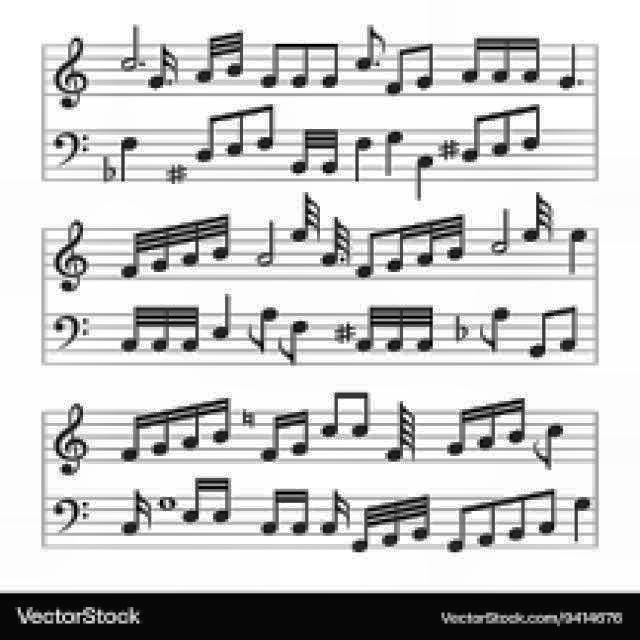Bass-clef: (46, 492, 90, 534), (48, 310, 92, 350), (50, 128, 90, 168)
Bemol: (98, 152, 120, 185), (450, 310, 470, 346)
Diez: (328, 316, 356, 348), (435, 134, 461, 164), (164, 160, 188, 188)
Eighth-note: (476, 304, 512, 356), (354, 23, 390, 73), (532, 421, 568, 471), (472, 496, 504, 552), (460, 112, 492, 166), (246, 305, 282, 353), (194, 112, 226, 164), (275, 316, 309, 364), (385, 45, 415, 99), (356, 225, 386, 279), (260, 40, 292, 89), (446, 504, 478, 552), (492, 105, 520, 158), (320, 390, 350, 438), (346, 388, 374, 439), (288, 41, 316, 90), (410, 41, 438, 90), (252, 100, 278, 152), (517, 102, 543, 154), (530, 488, 558, 536), (226, 107, 252, 157), (559, 300, 581, 356), (320, 40, 344, 90), (506, 492, 530, 542), (528, 310, 552, 358)
Full-note: (153, 494, 181, 514)
Half-note: (486, 210, 509, 258), (120, 22, 140, 74), (258, 218, 278, 270)
Quarter-note: (382, 126, 404, 180), (412, 150, 434, 202), (118, 133, 140, 183), (566, 226, 588, 276), (350, 133, 370, 183), (574, 495, 594, 545), (559, 41, 577, 91), (215, 292, 231, 340)
Sixteenth-note: (144, 41, 182, 91), (318, 488, 354, 536), (442, 406, 474, 458), (491, 32, 521, 84), (477, 400, 507, 452), (120, 411, 150, 462), (120, 490, 152, 536), (517, 32, 543, 88), (260, 412, 288, 464), (182, 474, 210, 526), (261, 487, 291, 535), (180, 398, 208, 449), (461, 36, 492, 82), (152, 404, 178, 456), (206, 397, 232, 445), (502, 394, 526, 446), (388, 222, 412, 274), (207, 475, 231, 525), (290, 409, 312, 459), (290, 487, 312, 537)
Treble-clef: (46, 215, 90, 292), (50, 398, 90, 478), (50, 35, 90, 111)
